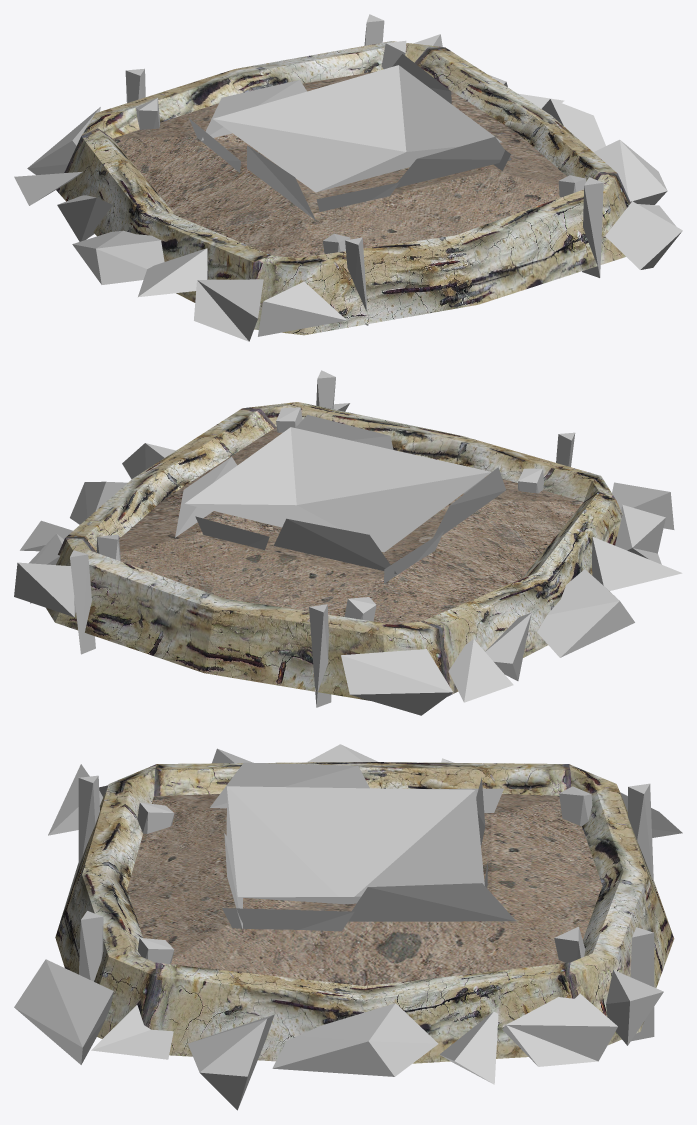
File: Fireplace_1_LOD3.fbx
3 views of the same model, one above another, from view 1: azimuth 30°, elevation 25°; view 2: azimuth 150°, elevation 25°; view 3: azimuth 270°, elevation 25° (orthographic). The views are drawn at different scales.
Parts seen in each view (by area): view 1: Cube_2, Cube, Cube_2_2, Cylinder_8; view 2: Cube_2, Cube, Cube_2_2, Cylinder_8; view 3: Cube_2, Cube, Cube_2_2, Cylinder_8.
Boxes of the visible parts, left/top/right/bottom form: Cube_2: left=14, top=34, right=682, bottom=341; Cube: left=56, top=41, right=630, bottom=335; Cube_2_2: left=113, top=71, right=566, bottom=258; Cylinder_8: left=125, top=14, right=603, bottom=325; Cube_2: left=14, top=403, right=682, bottom=715; Cube: left=46, top=402, right=622, bottom=700; Cube_2_2: left=119, top=427, right=583, bottom=624; Cylinder_8: left=70, top=370, right=575, bottom=707; Cube_2: left=14, top=744, right=682, bottom=1110; Cube: left=55, top=762, right=674, bottom=1063; Cube_2_2: left=127, top=794, right=602, bottom=986; Cylinder_8: left=78, top=775, right=654, bottom=1041.
Size of the model in its own units: 272 by 247 by 60.01.
